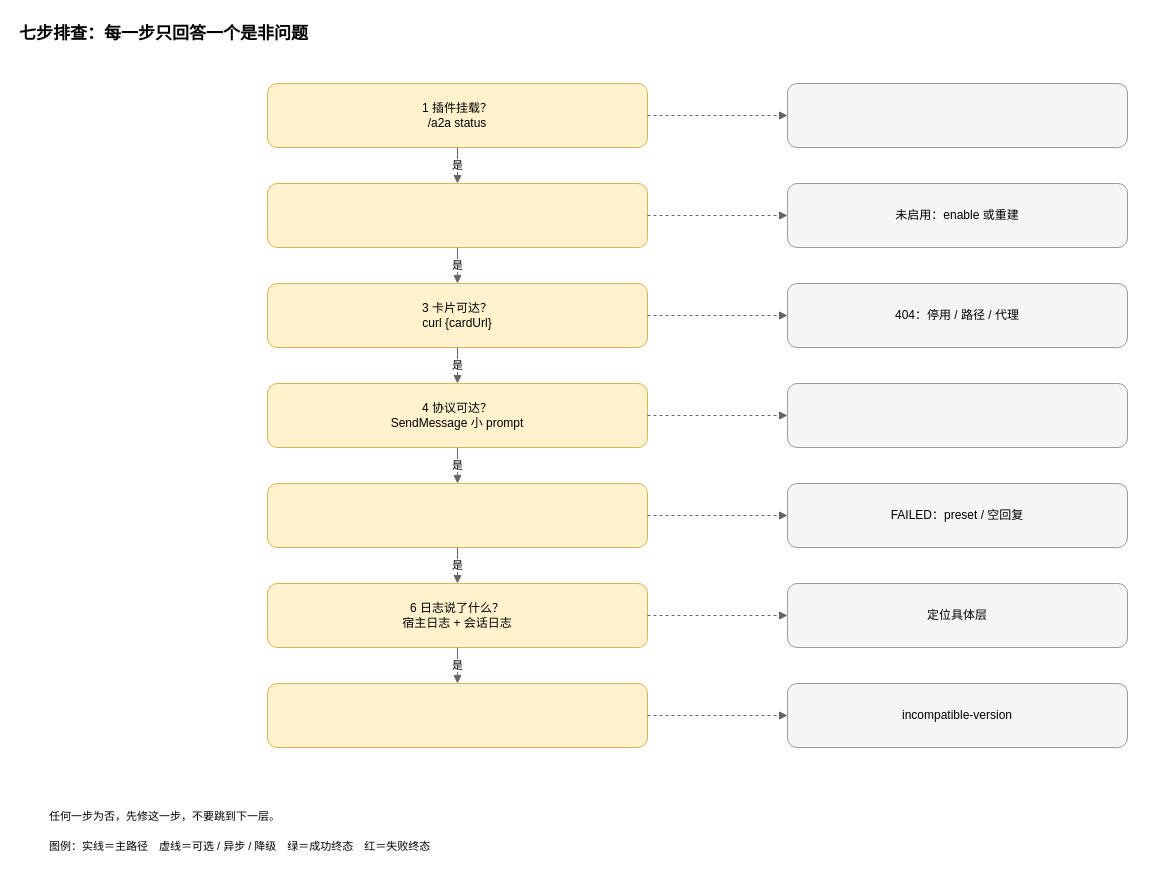
Some shapes in this 1174 by 874 pixel diagram are drawn without their labels. Here are the shapes that lost their labels. From the top down, the box of each, then its label:
(786, 82, 1128, 148): 没挂载：查安装与版本预检
(266, 182, 648, 248): 2 实例存在且启用？ /a2a inbound list
(786, 382, 1128, 448): 401 / 版本 / 方法
(266, 482, 648, 548): 5 任务什么状态？ /a2a task get
(266, 682, 648, 748): 7 版本对得上？ peer 范围
